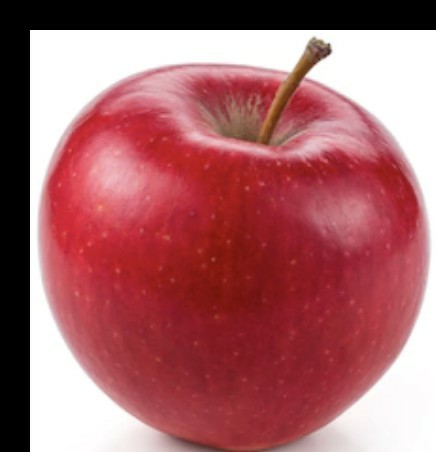fresh_apple: (38, 60, 435, 452)
